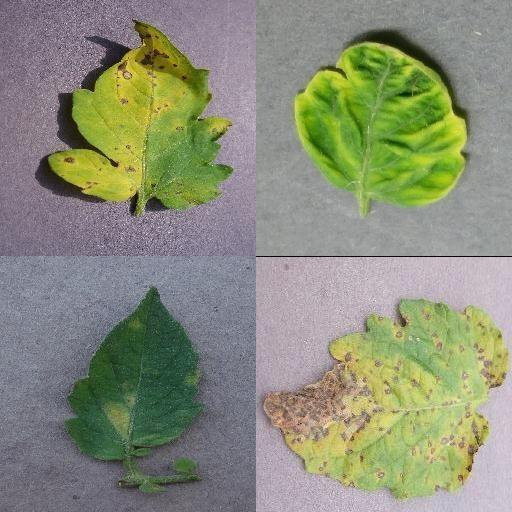Leaf Mold: (66, 283, 207, 463)
Septoria: (263, 297, 511, 498), (51, 18, 234, 212)
Yellow Leaf Curl Virus: (294, 40, 470, 206)
